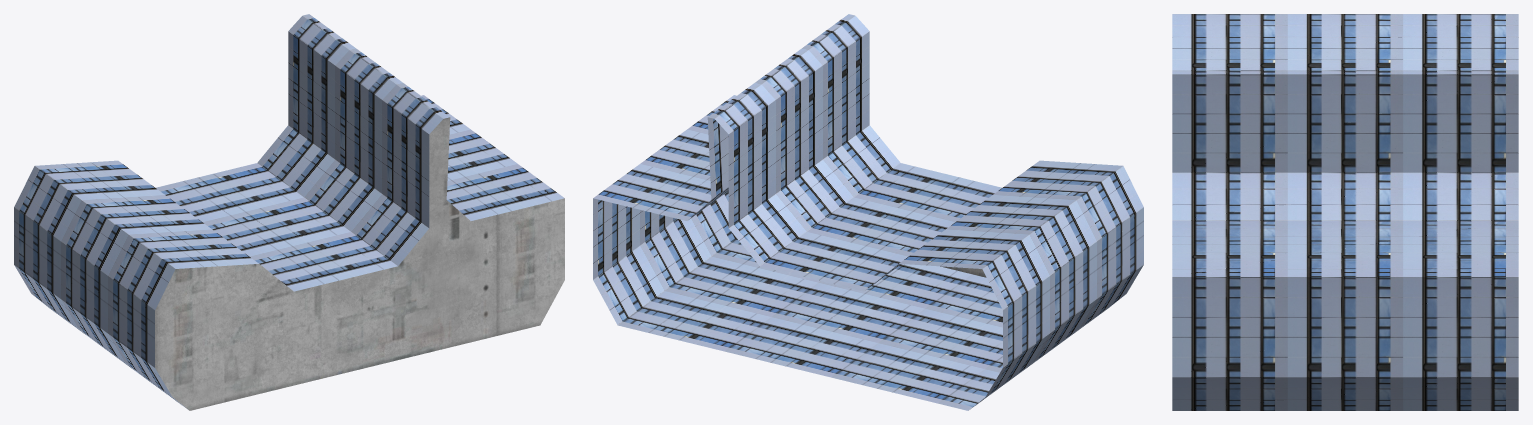
Rendered from building-80.obj.
The picture shows the model from 3 angles, left to right: view 1: azimuth 30°, elevation 25°; view 2: azimuth 150°, elevation 25°; view 3: azimuth 270°, elevation 25°; orthographic projection. The views are drawn at different scales.
Bounding box in the file's own units: 35.41 × 19 × 21.1.
